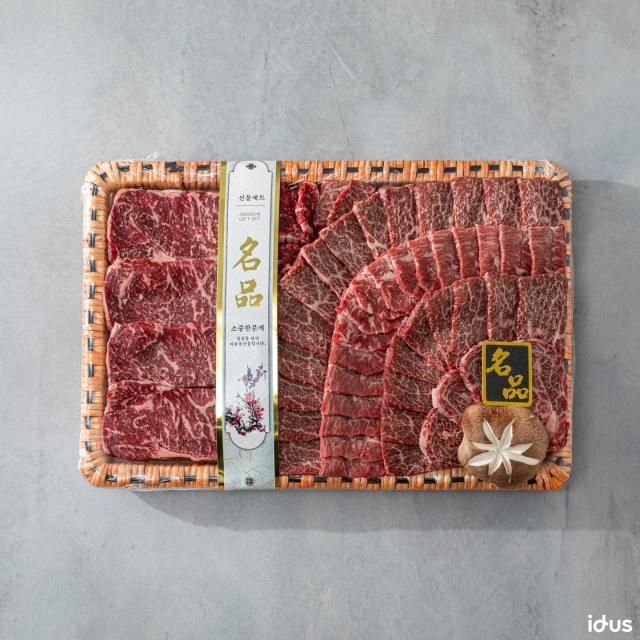beef: (113, 182, 565, 487)
